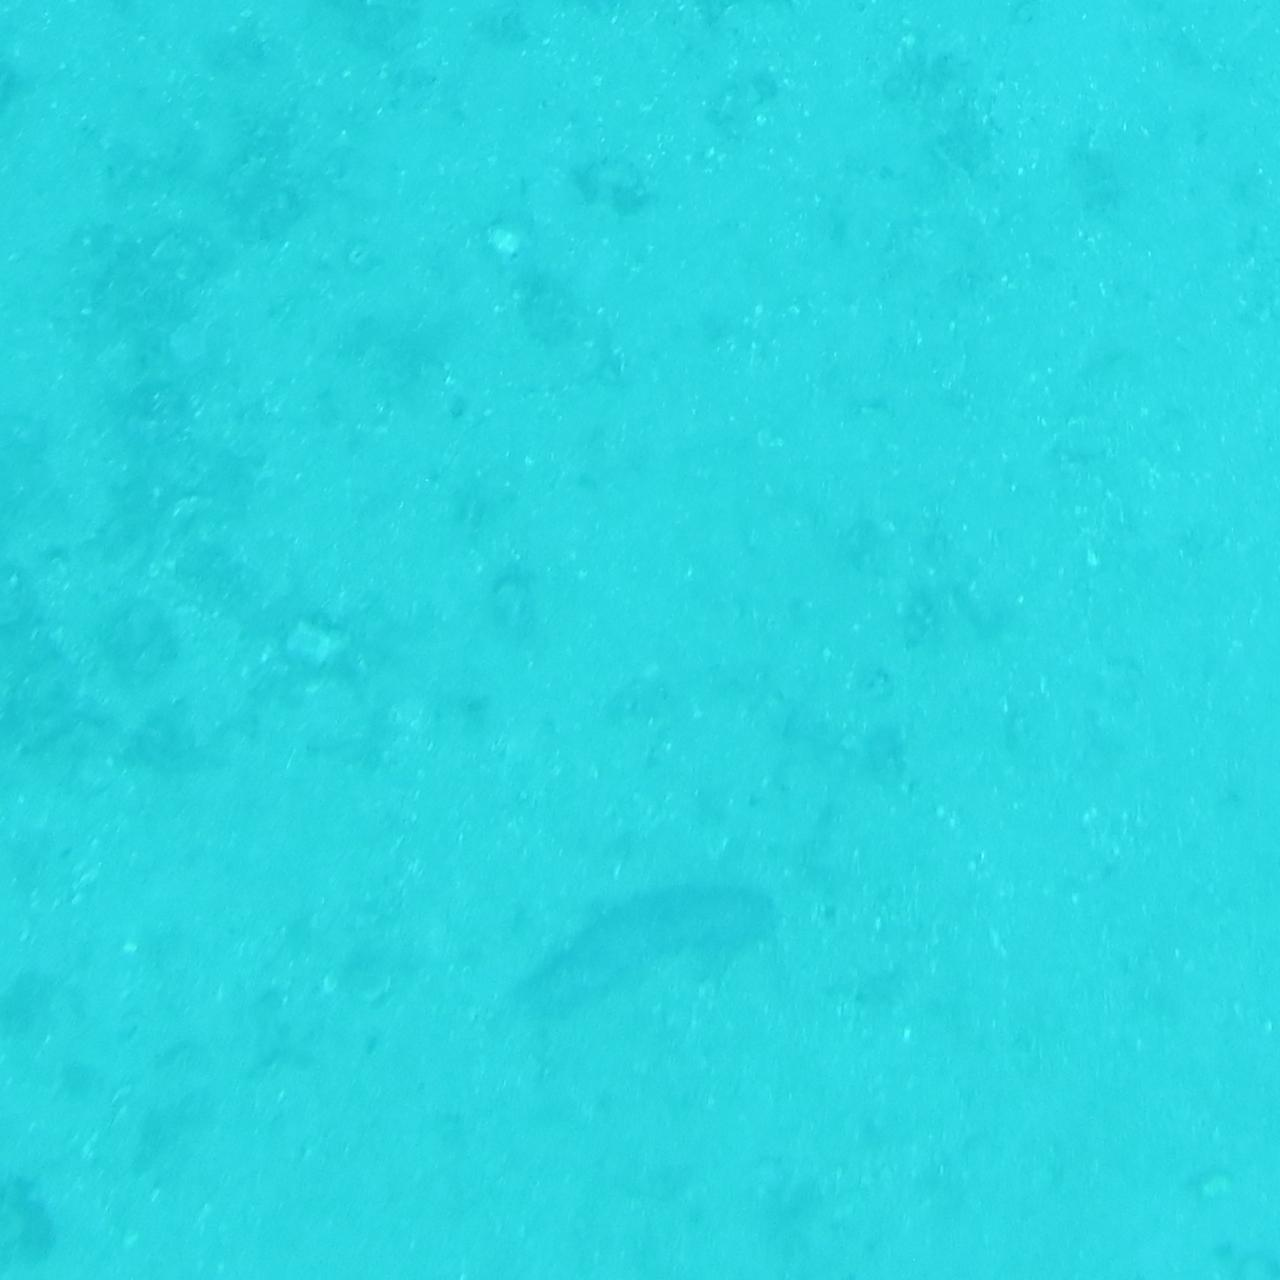Holothuria tubulosa: (484, 862, 796, 1012)
